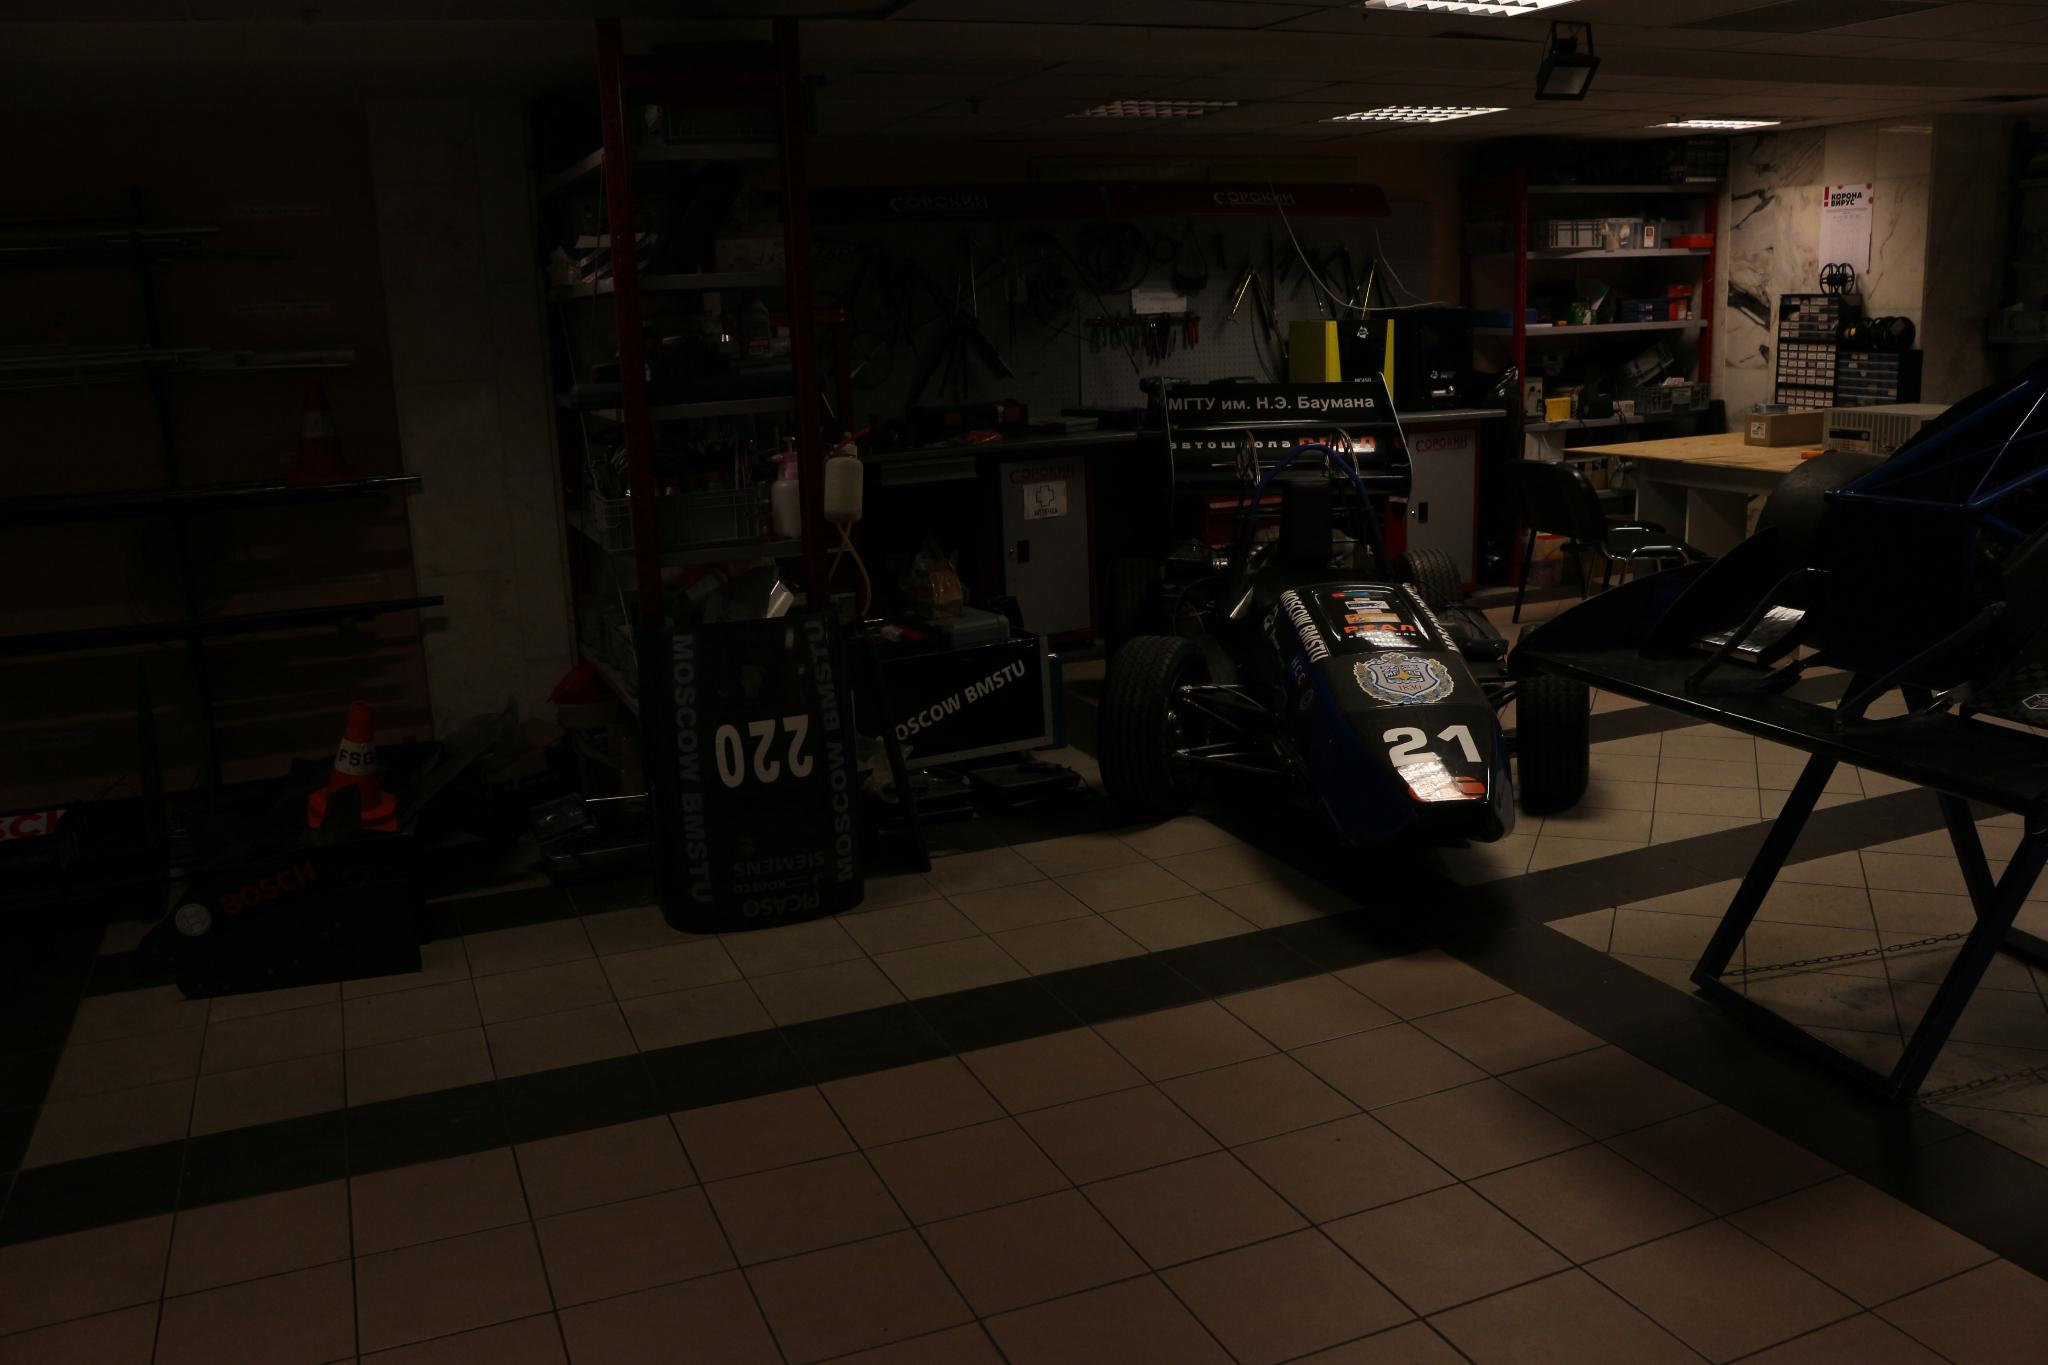Orange_Cone: (303, 696, 399, 829), (282, 378, 355, 489)
